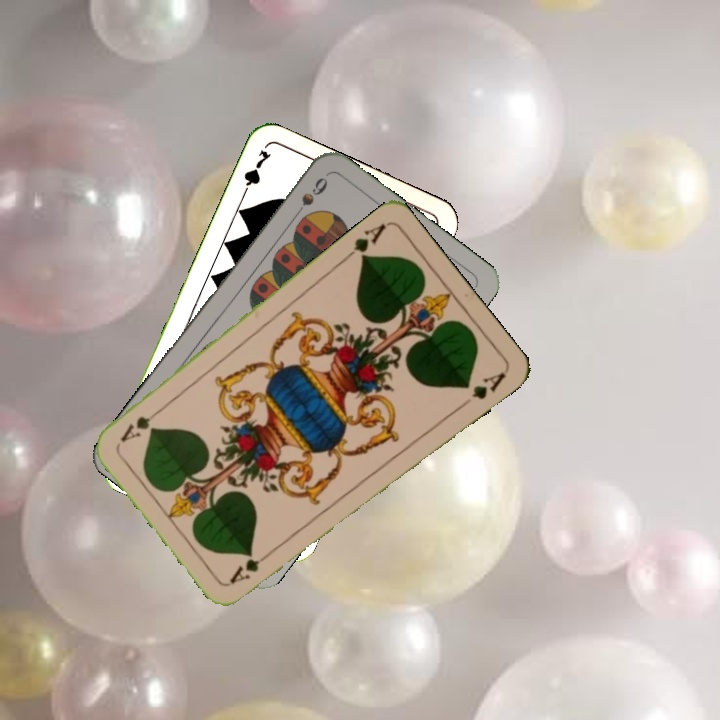G7: (237, 146, 274, 201)
GA: (340, 219, 389, 264), (225, 545, 277, 587)
S9: (288, 172, 331, 222)
